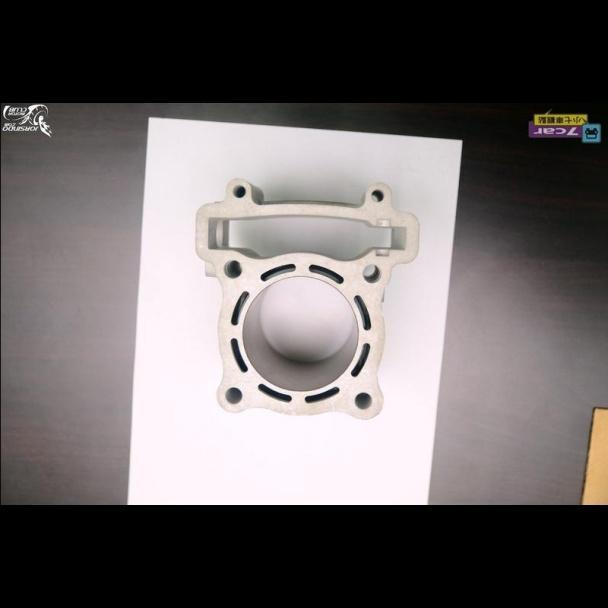hole: (360, 261, 382, 284), (221, 258, 243, 278), (222, 384, 242, 404), (351, 391, 371, 410), (230, 182, 244, 199), (370, 188, 384, 204)
